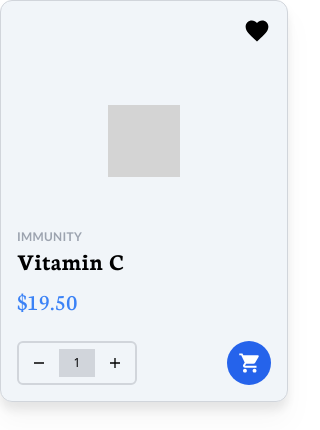
Test case: ProductCard › keeps add-to-cart disabled until the request completes, not for a fixed time
Click the button named "Add Vitamin C to cart".
click(249, 363)  # box [227,341,271,385]
Wait 5000 ms
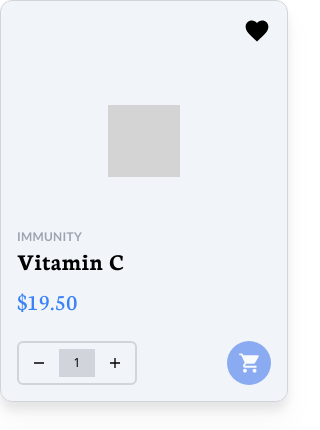
expect the button named "Add Vitamin C to cart" is disabled: met
Click the button named "Add Vitamin C to cart".
click(249, 363)  # box [227,341,271,385]
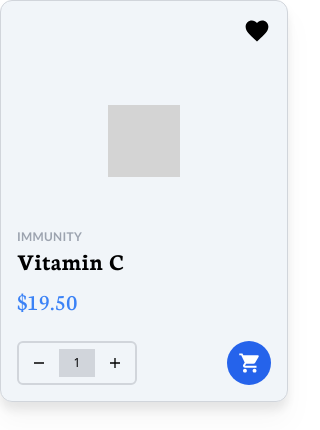
expect the button named "Add Vitamin C to cart" is enabled: met, box [227,341,271,385]
